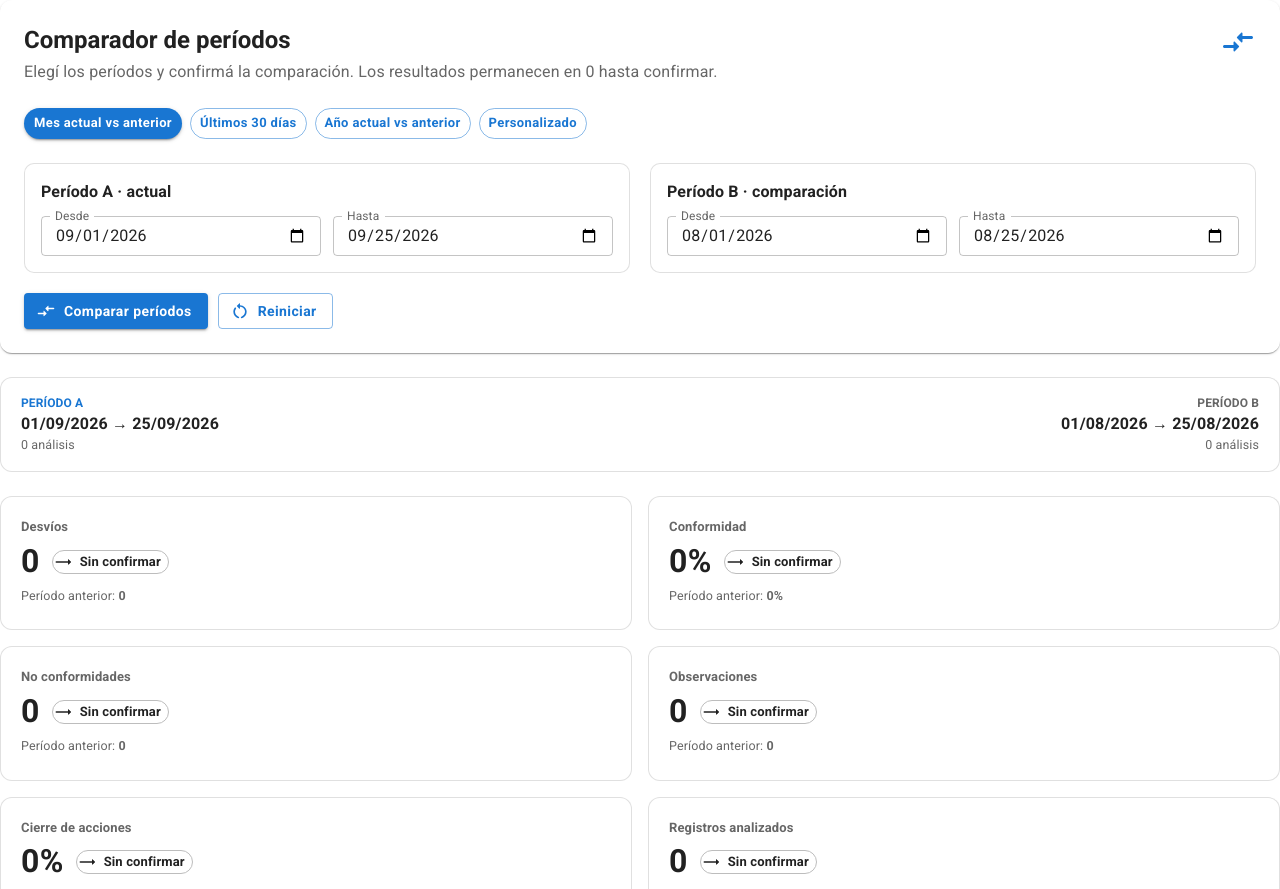
it: reset clears confirmed results without launching another request
Step 1. Click the button "Comparar períodos" → (116, 311), box [24,293,208,329]
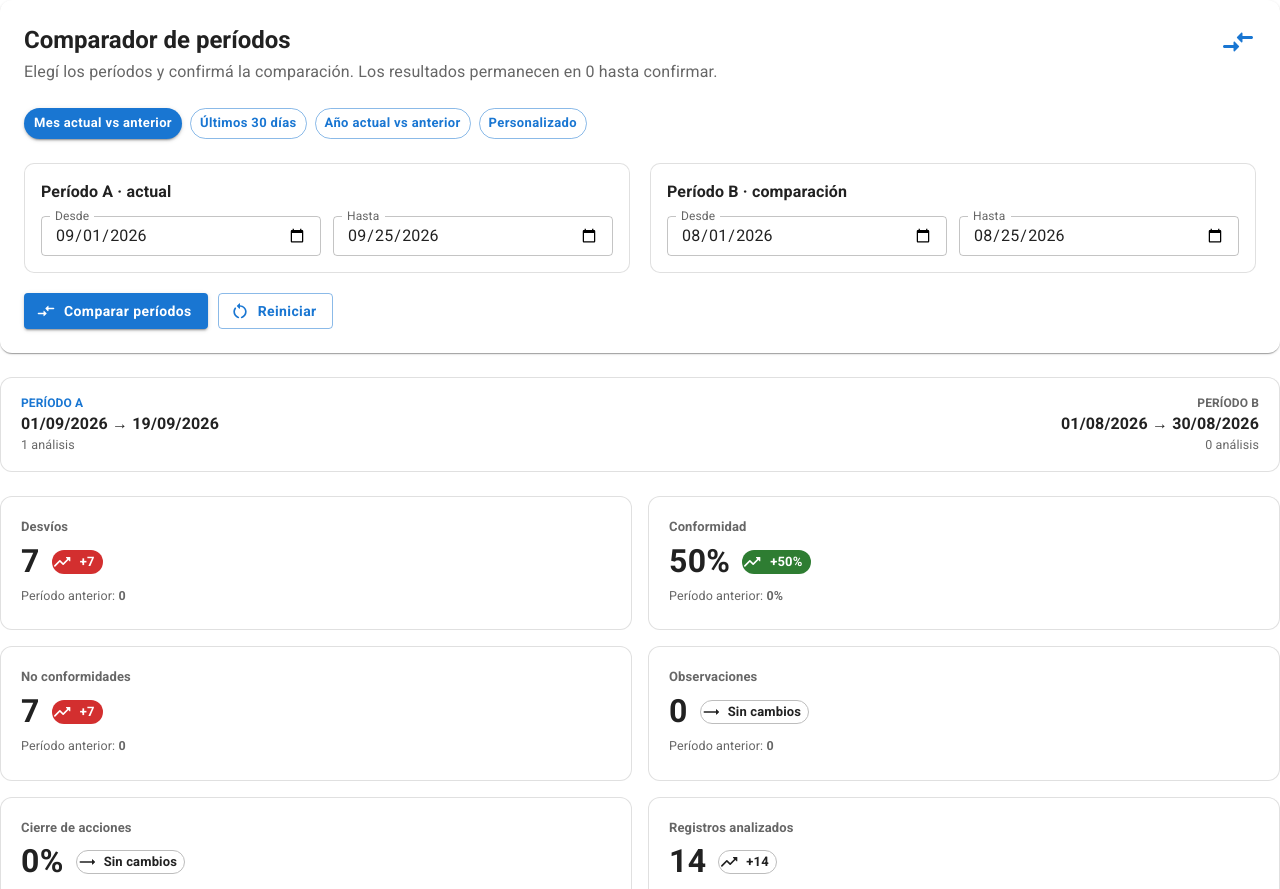
Expected: the text "14" is shown, [669,845,706,877]
Step 2. Click the button "Reiniciar" → (275, 311), box [218,293,333,329]
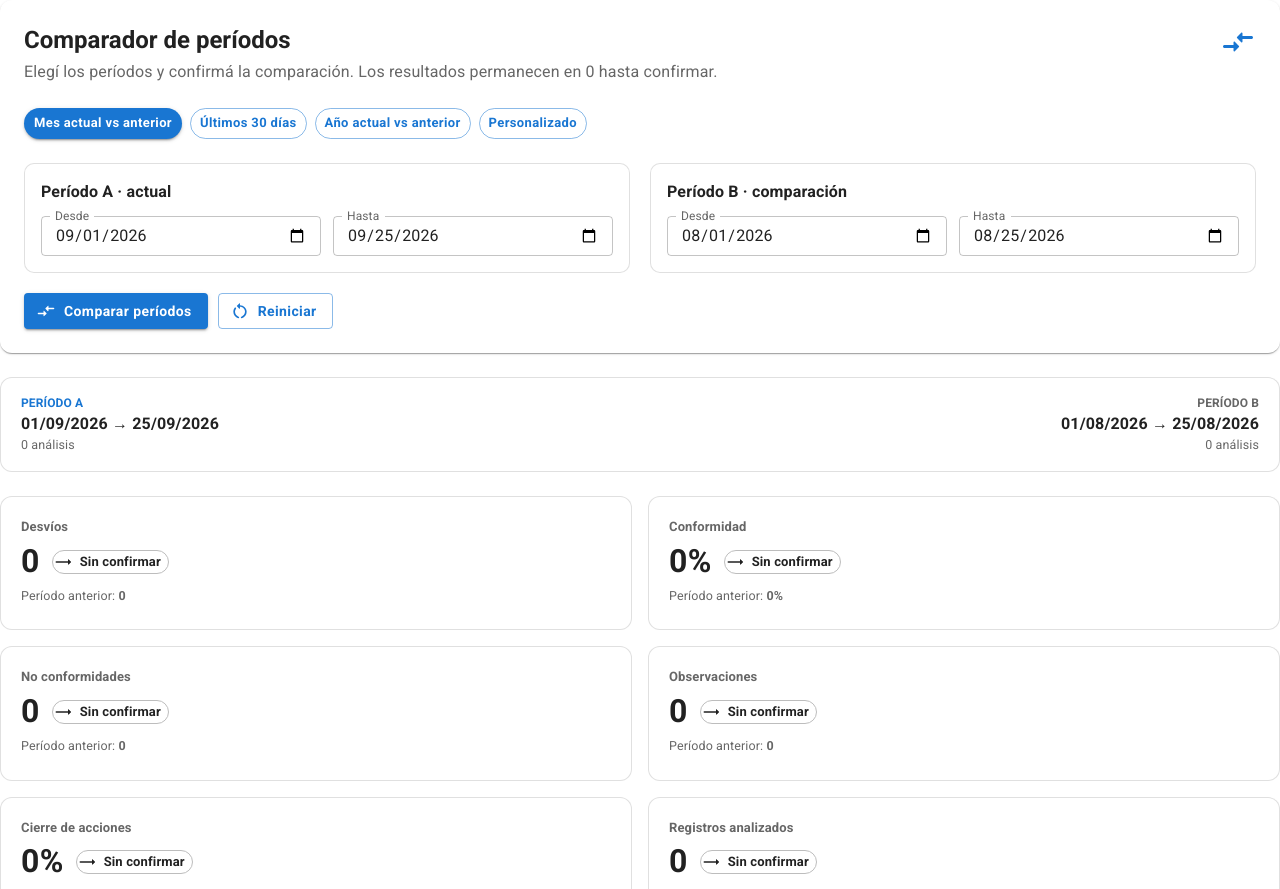
Expected: the text "Sin confirmar" is shown 6 times, [73,552,168,571]; [745,552,840,571]; [73,702,168,722]; [721,702,816,722]; [97,852,192,872]; [721,852,816,872]
Expected: the text "14" is gone
